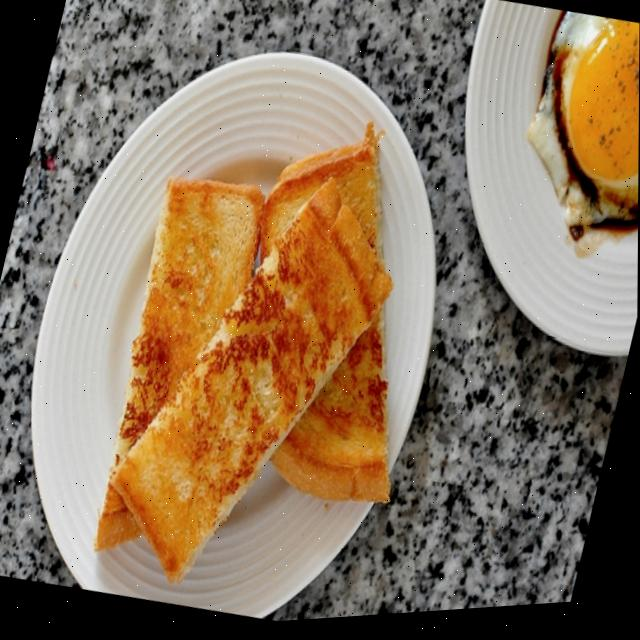面包点心: (0, 13, 521, 640)
